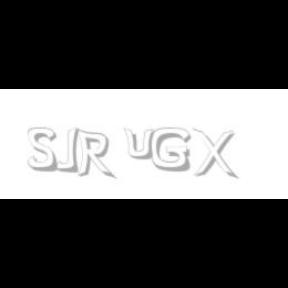G: (151, 128, 191, 172)
J: (54, 128, 78, 172)
R: (75, 128, 113, 180)
S: (28, 128, 58, 172)
X: (192, 128, 236, 180)
u: (124, 128, 158, 160)
